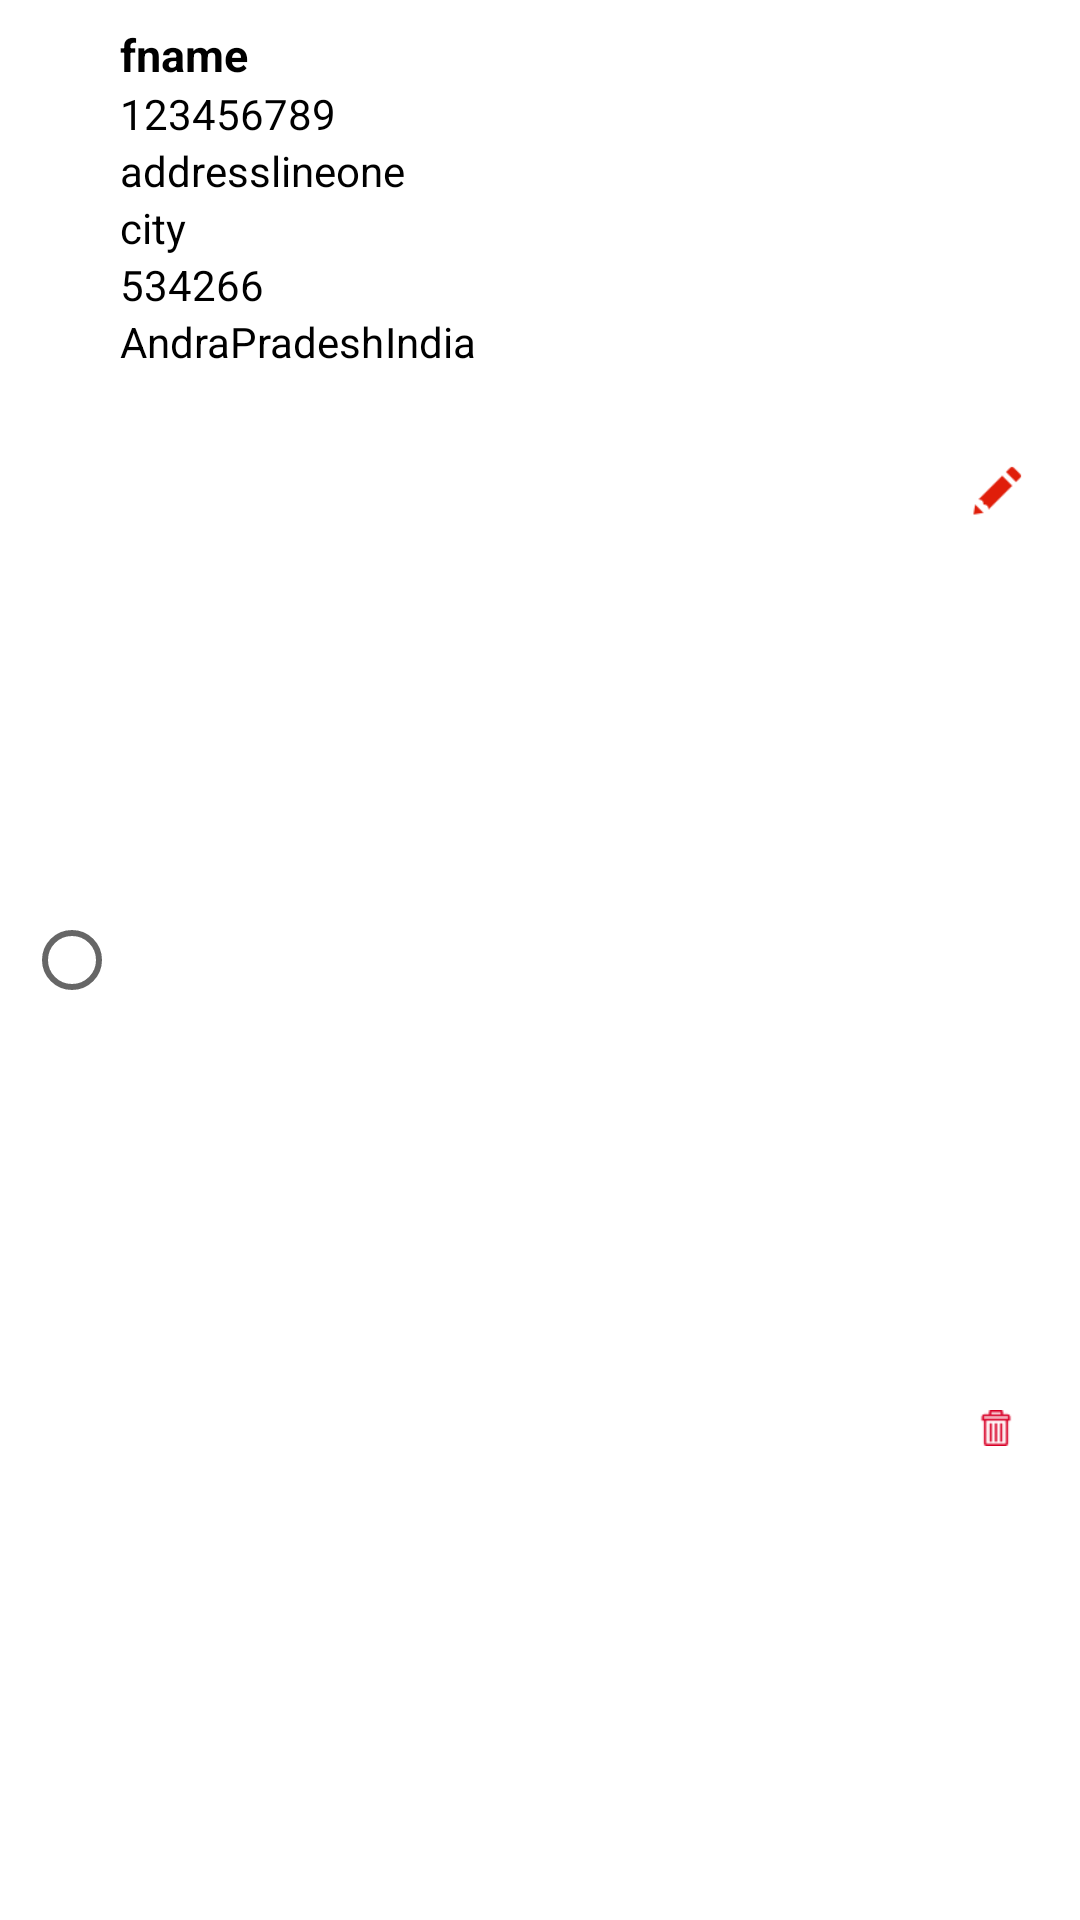

Named icons in this screenshot (1080 x 1920) and their bounding boxes, (x1, y1, x2, y2):
delete bin: (981, 1410, 1011, 1446)
edit: (973, 467, 1021, 515)
